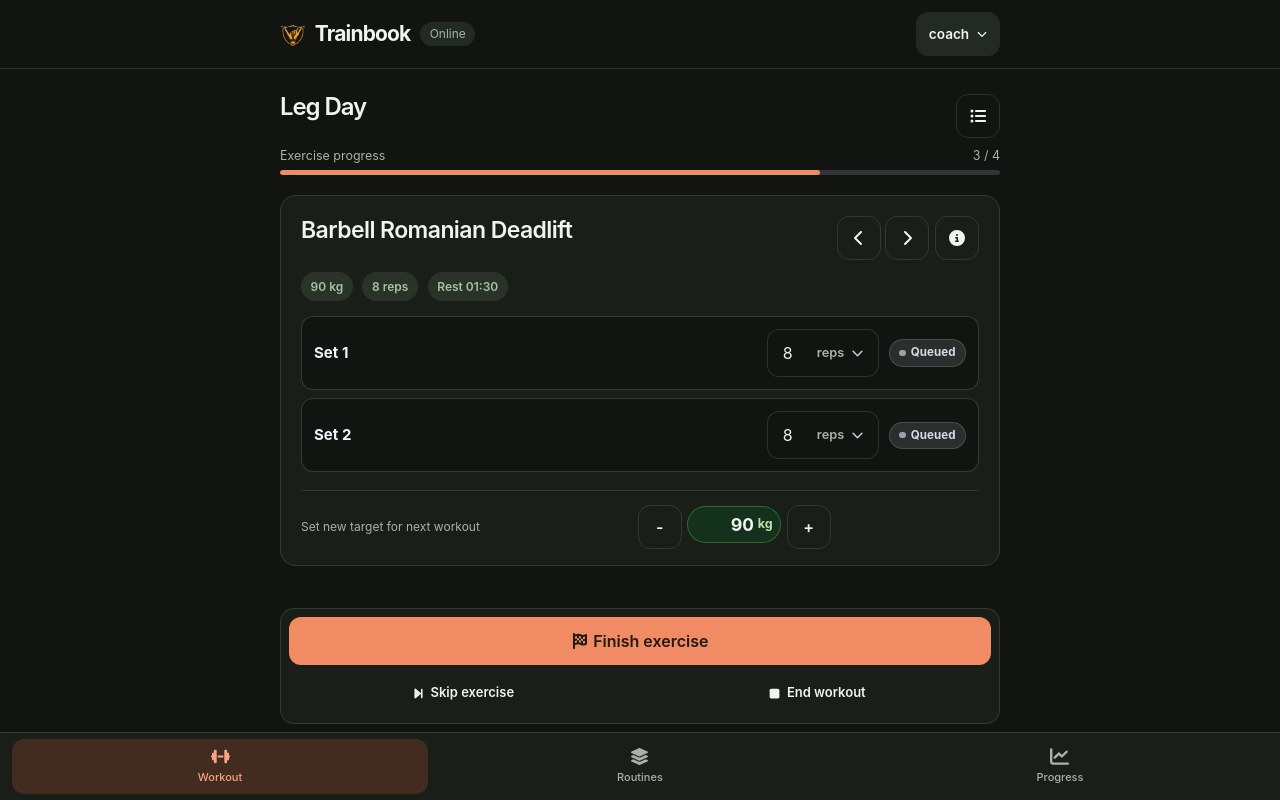
Test: App UI flows › updates exercise progress when revisiting earlier exercises
The image size is (1280, 800).
Expected: the text "Barbell Romanian Deadlift" is shown, [301, 216, 572, 245]
Click the button named "Previous exercise": (859, 238) [837, 216, 881, 260]
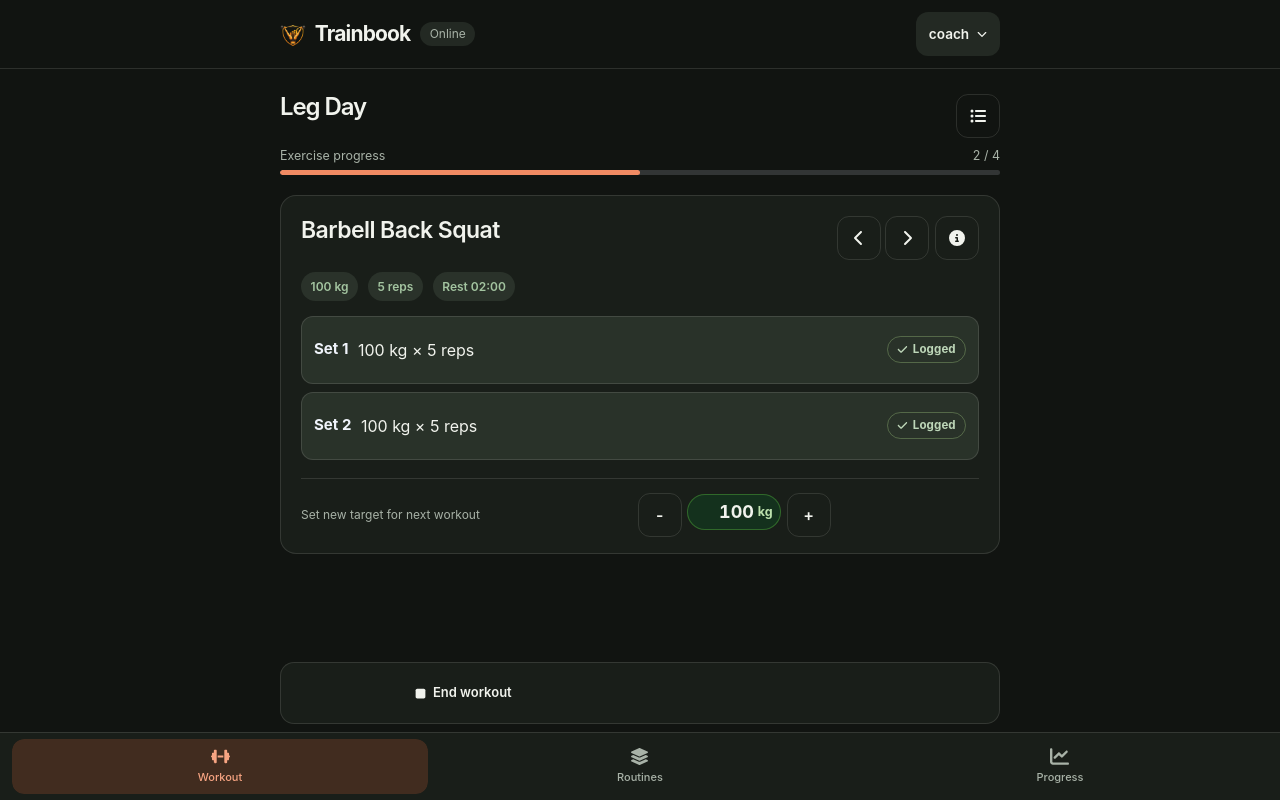
Expected: the text "Barbell Back Squat" is shown, [301, 216, 500, 245]
Click the button named "Previous exercise": (859, 238) [837, 216, 881, 260]
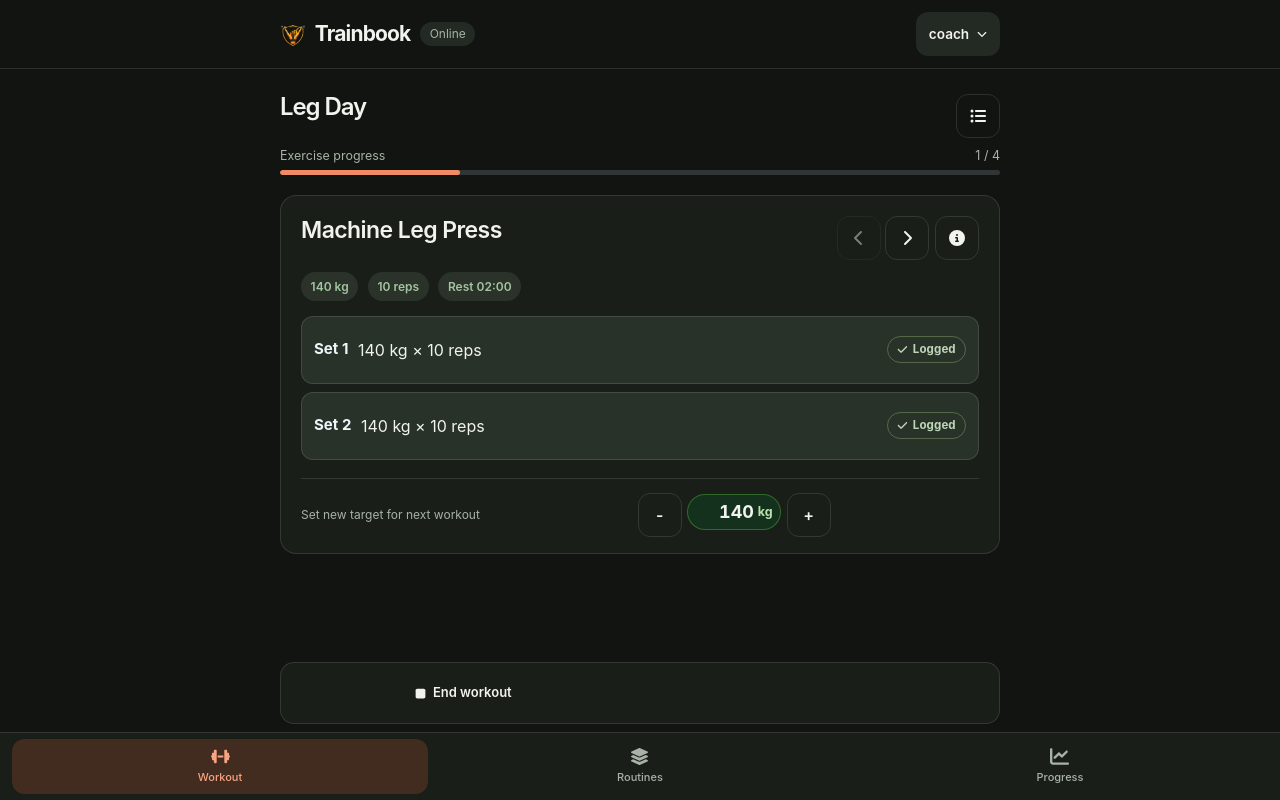
Expected: the text "Machine Leg Press" is shown, [301, 216, 502, 245]
Click the button named "Next exercise": (907, 238) [885, 216, 929, 260]
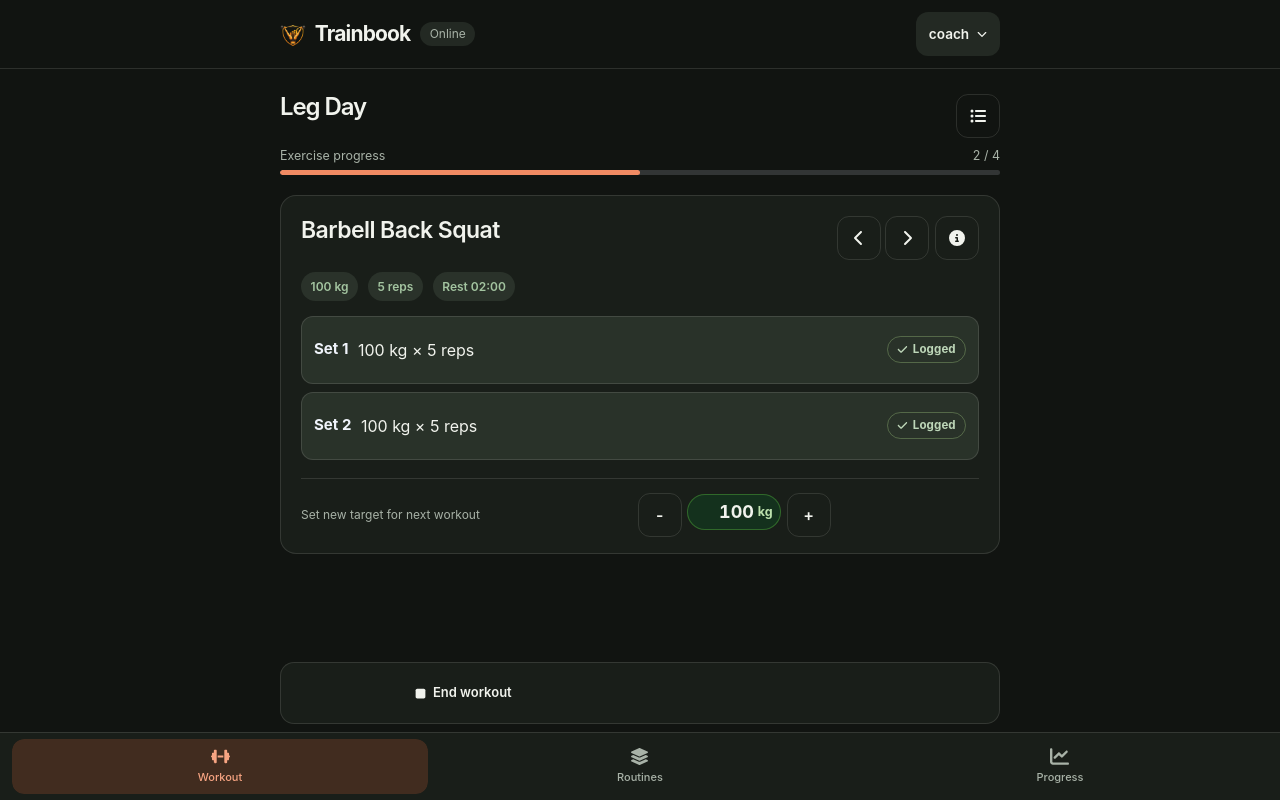
Expected: the text "Barbell Back Squat" is shown, [301, 216, 500, 245]
Click the button named "Next exercise": (907, 238) [885, 216, 929, 260]
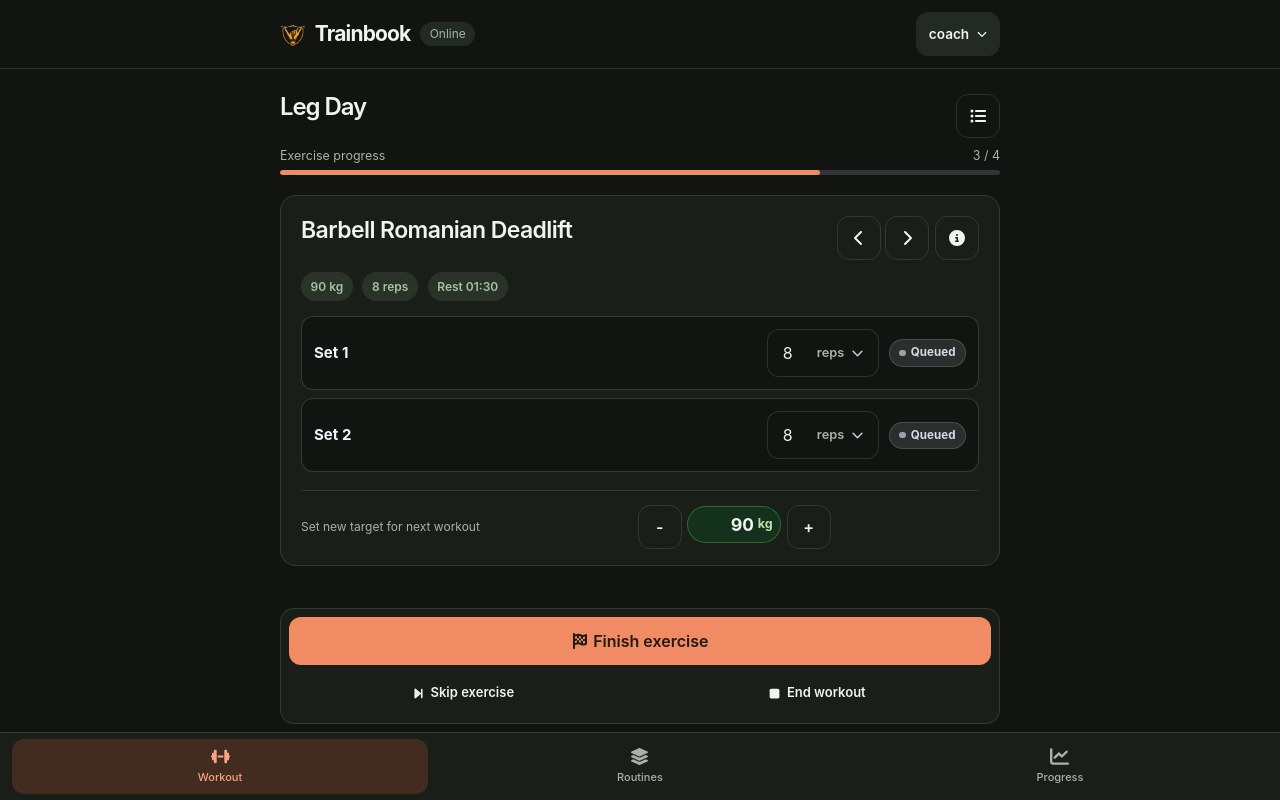
Expected: the text "Barbell Romanian Deadlift" is shown, [301, 216, 572, 245]
Click the button named "Next exercise": (907, 238) [885, 216, 929, 260]
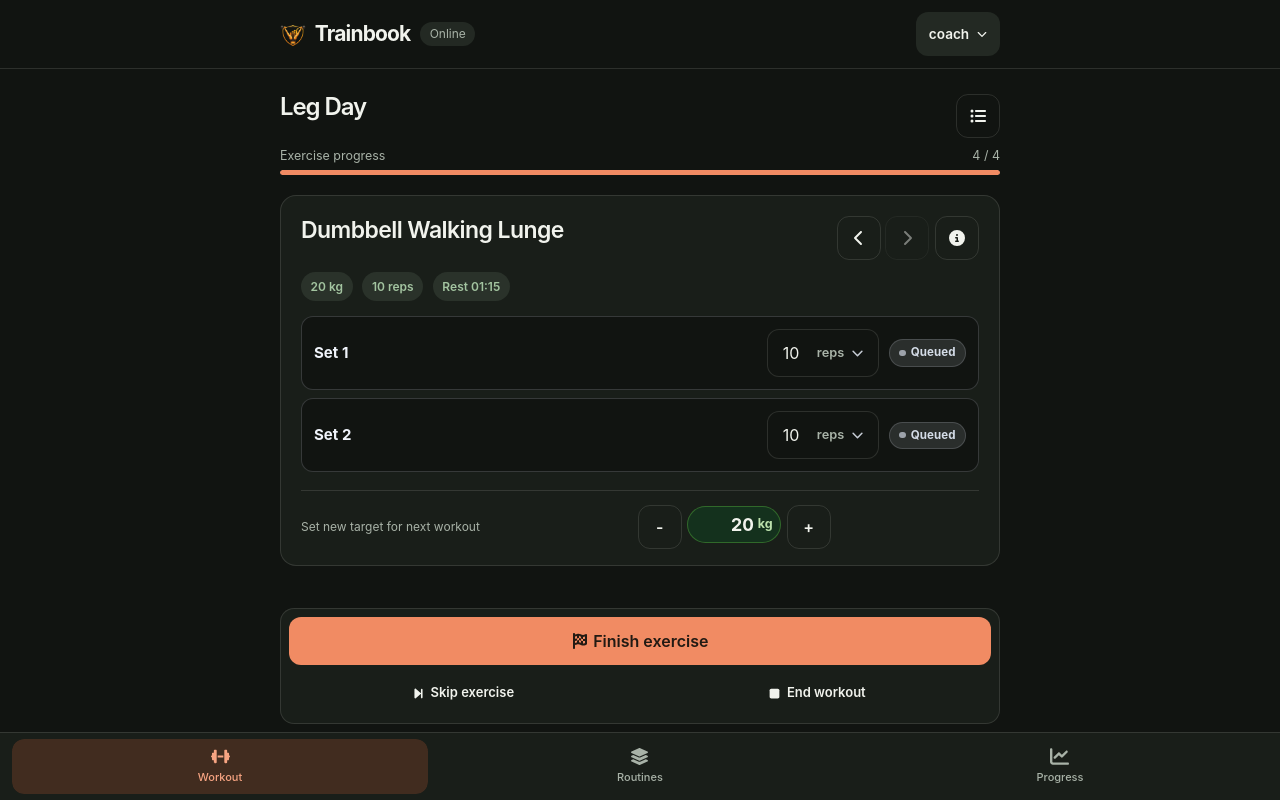
Expected: the text "Dumbbell Walking Lunge" is shown, [301, 216, 564, 245]
